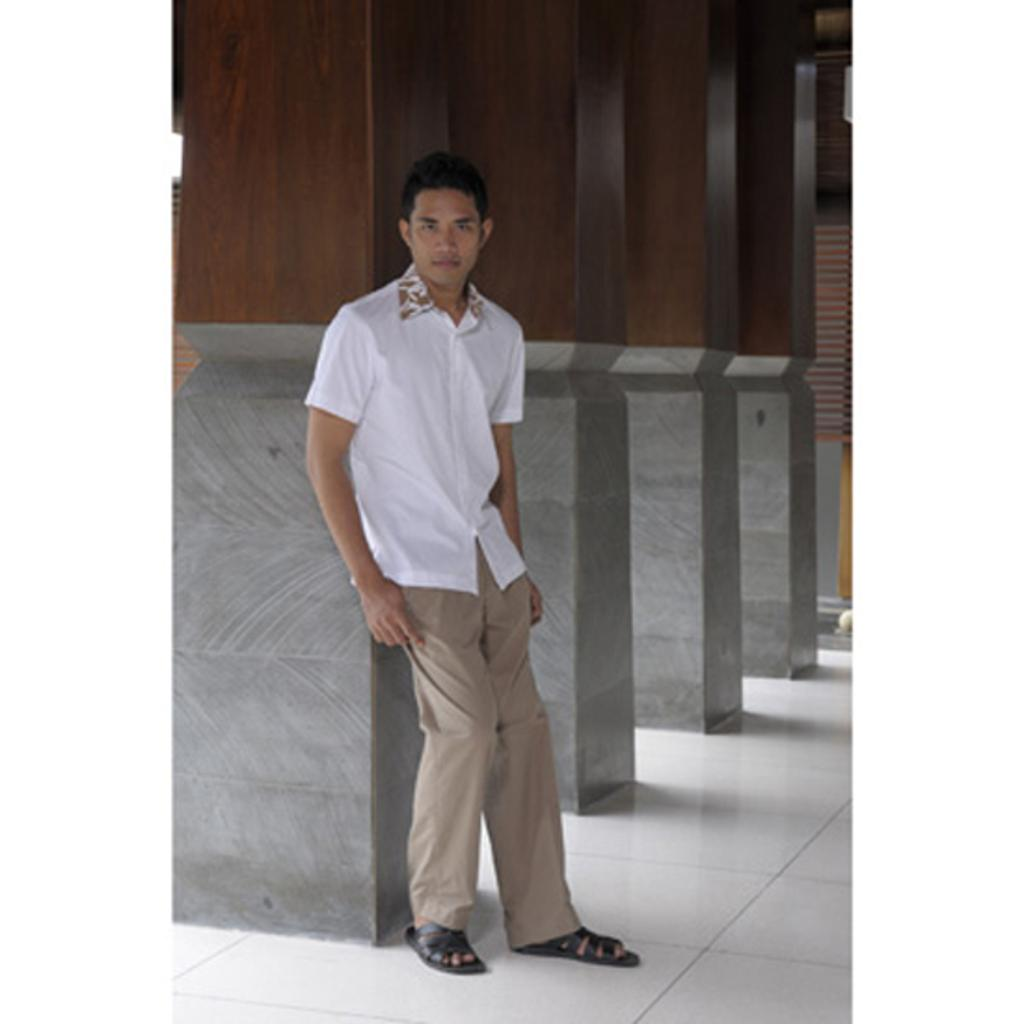face: (406, 188, 480, 280)
